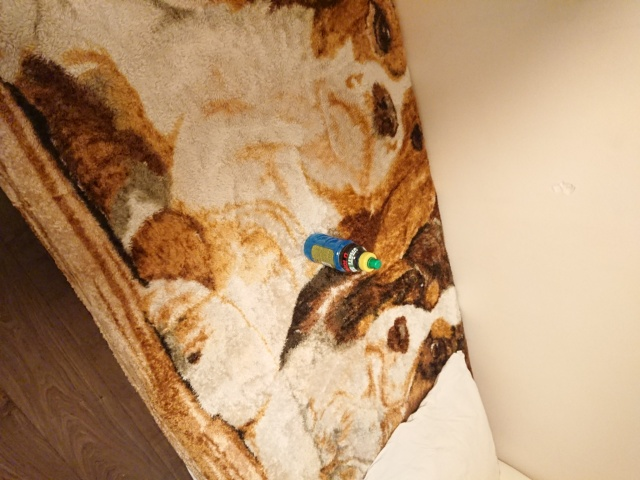Vindi Iso Sport Forest Strawberries 500mL: (302, 231, 381, 273)
